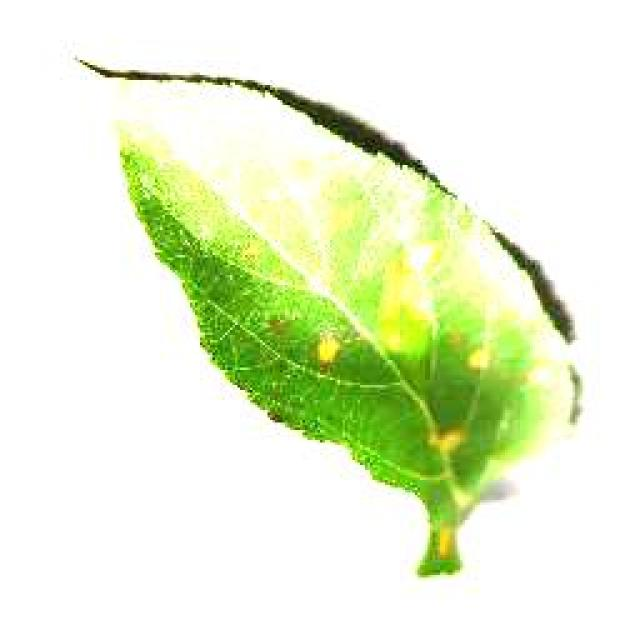apple scab disease: (73, 52, 585, 578)
